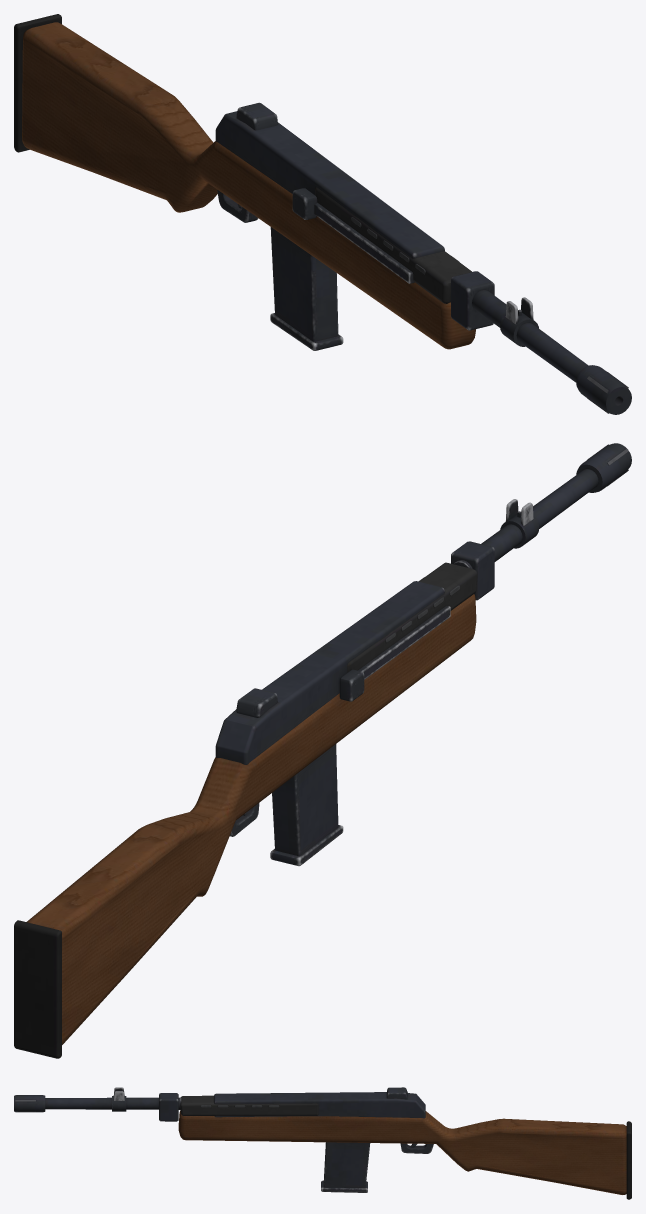
File: dmr_mini14.glb
3 renders of one model, top to bottom at view 1: azimuth 30°, elevation 25°; view 2: azimuth 150°, elevation 25°; view 3: azimuth 270°, elevation 25°, orthographic. The views are drawn at different scales.
Parts seen in each view (by area): view 1: body, mag_mesh, bolt_mesh; view 2: body, mag_mesh, bolt_mesh; view 3: body, mag_mesh.
Boxes of the visible parts, box(x1,y1,x2,y2) form: body: box(14, 14, 631, 414); mag_mesh: box(270, 227, 343, 350); bolt_mesh: box(292, 188, 414, 283); body: box(14, 443, 631, 1058); mag_mesh: box(270, 744, 343, 866); bolt_mesh: box(339, 605, 450, 701); body: box(14, 1087, 631, 1199); mag_mesh: box(321, 1142, 370, 1192).
Bounding box in the file's own units: 0.049 × 0.177 × 0.946.
Materials: 1 (1 with a texture image).
